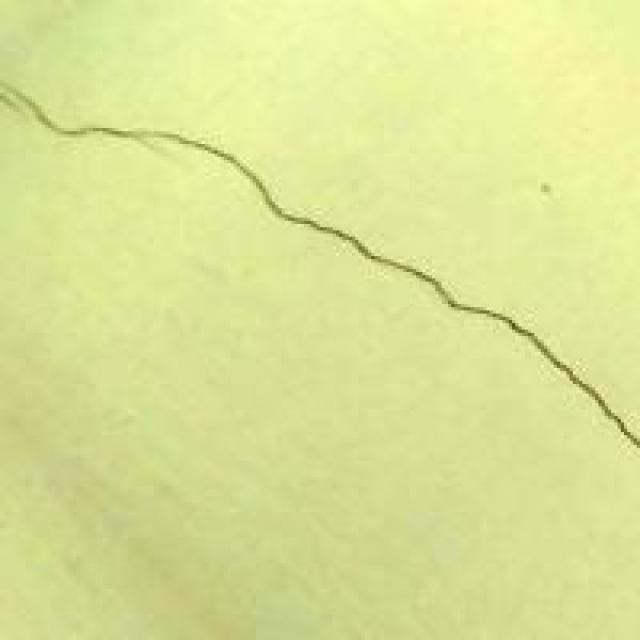Crack: (3, 74, 637, 480)
